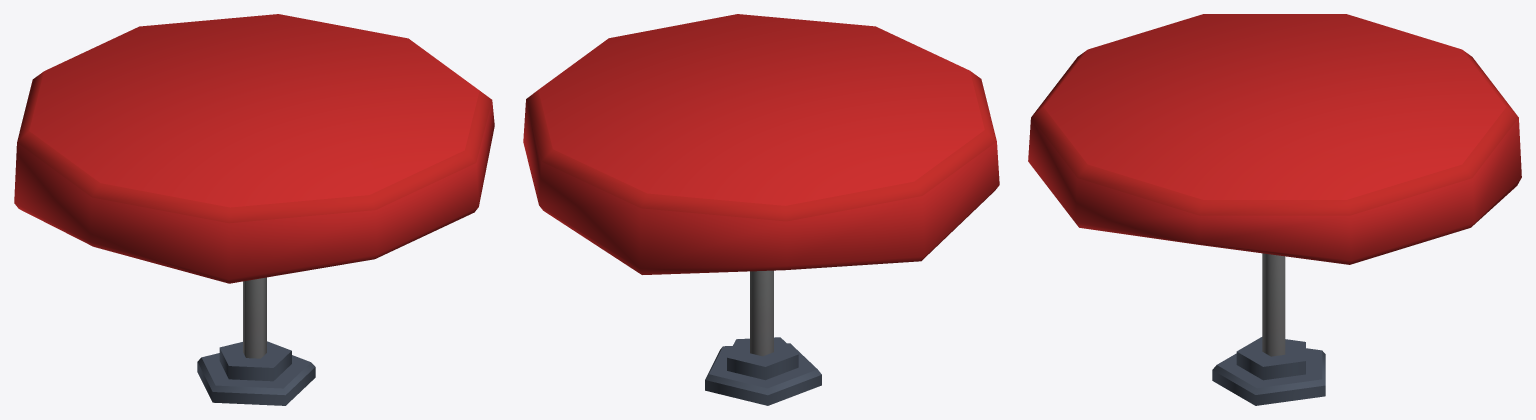
File: Table_1_A.glb
The picture shows the model from 3 angles, left to right: view 1: azimuth 30°, elevation 25°; view 2: azimuth 150°, elevation 25°; view 3: azimuth 270°, elevation 25°; orthographic projection.
Parts seen in each view (by area): view 1: Table_1_A; view 2: Table_1_A; view 3: Table_1_A.
Part boxes in pixels (x1,y1,x2,y2): Table_1_A: (14,14,494,405); Table_1_A: (523,14,999,405); Table_1_A: (1028,14,1521,405).
Bounding box in the file's own units: 1.34 × 0.863 × 1.41.
Materials: 2 (2 with a texture image).
